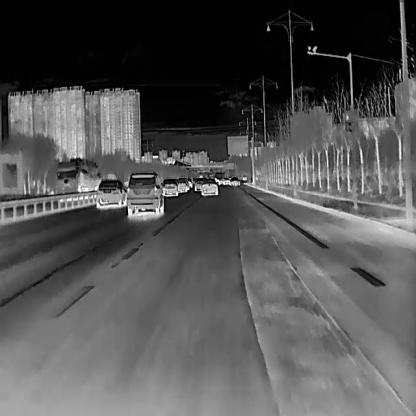car: (126, 171, 164, 216), (96, 177, 126, 208), (160, 177, 176, 197), (200, 178, 217, 195), (177, 177, 188, 193)
truck: (56, 155, 100, 193)
